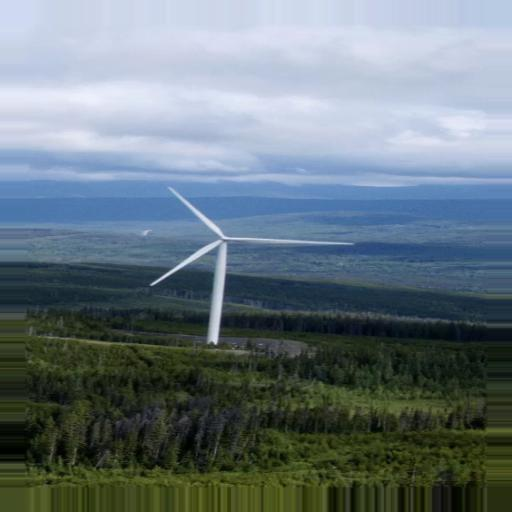wind turbine: (148, 184, 353, 345)
